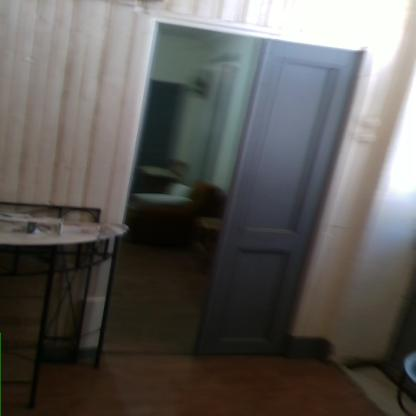open: (95, 12, 375, 370)
